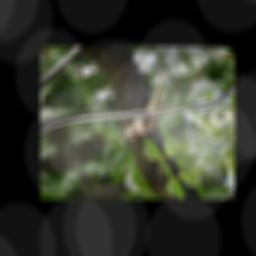Cuckoo: (95, 68, 192, 143)
